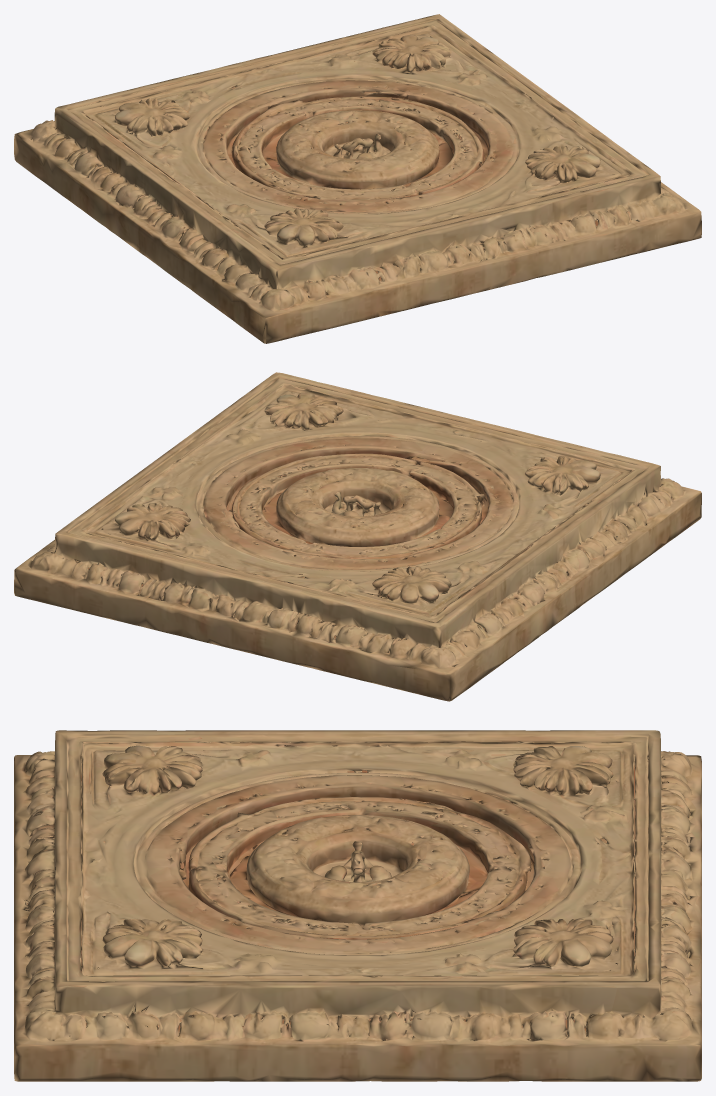
The model's file is ornate-marble-floor-tile-large-optimized.glb.
The picture shows the model from 3 angles, top to bottom: view 1: azimuth 30°, elevation 25°; view 2: azimuth 150°, elevation 25°; view 3: azimuth 270°, elevation 25°; orthographic projection. The views are drawn at different scales.
Visible parts, largest first — view 1: world; view 2: world; view 3: world.
Boxes of the visible parts, <box> form: world: <box>14,14,701,343</box>; world: <box>14,372,701,701</box>; world: <box>14,730,701,1081</box>.
Size of the model in its own units: 1.5 by 0.2197 by 1.5.
Materials: 1 (1 with a texture image).
